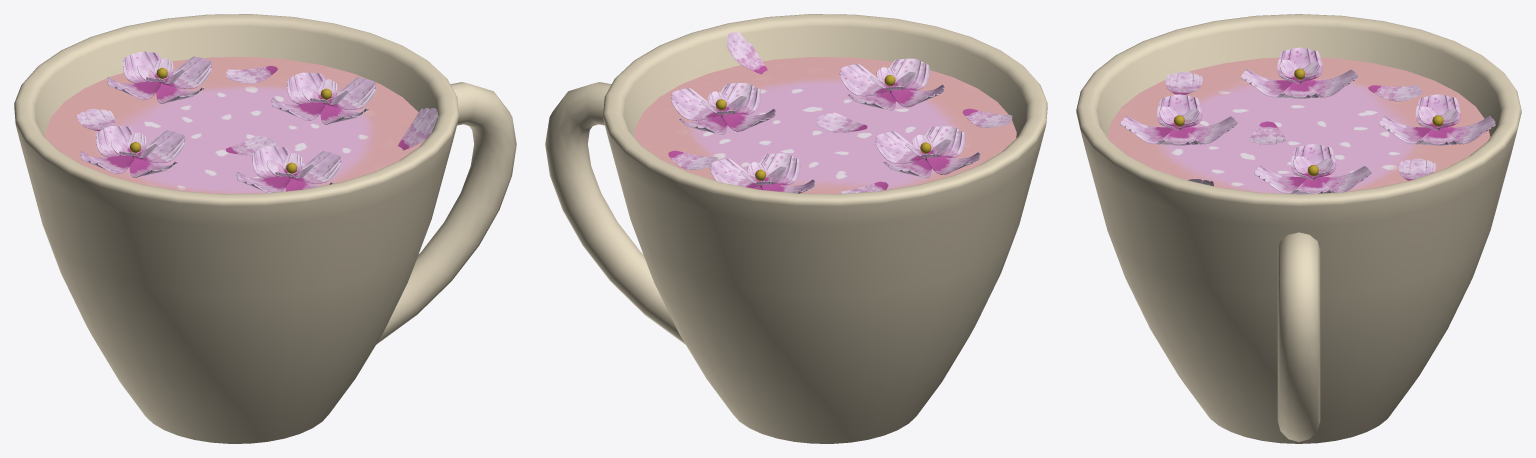
Rendered from cherry blossom  .fbx.
3 views of the same model, side by side, from view 1: azimuth 30°, elevation 25°; view 2: azimuth 150°, elevation 25°; view 3: azimuth 270°, elevation 25° (orthographic).
Parts seen in each view (by area): view 1: CoffeeCup, Liquid, Pedal.005, Pedal.002, Pedal.003, Pedal.004, Pedal.006, Pedal.008, Pedal.007, Pedal.001; view 2: CoffeeCup, Liquid, Pedal.004, Pedal.003, Pedal.005, Pedal.002, Pedal.006, Pedal.001, Pedal.009, Pedal.008; view 3: CoffeeCup, Liquid, Pedal.003, Pedal.004, Pedal.002, Pedal.005, Pedal.009, Pedal.007, Pedal.008, Pedal.001.
Part boxes in pixels (<box>): CoffeeCup: <box>14,14,516,443</box>; Liquid: <box>45,57,425,193</box>; Pedal.005: <box>271,72,376,124</box>; Pedal.002: <box>107,51,212,103</box>; Pedal.003: <box>80,125,185,177</box>; Pedal.004: <box>236,146,341,192</box>; Pedal.006: <box>398,108,438,150</box>; Pedal.008: <box>226,65,277,83</box>; Pedal.007: <box>77,109,115,130</box>; Pedal.001: <box>226,135,276,155</box>; CoffeeCup: <box>545,14,1047,443</box>; Liquid: <box>634,57,1016,193</box>; Pedal.004: <box>839,58,944,110</box>; Pedal.003: <box>875,126,980,177</box>; Pedal.005: <box>671,83,775,134</box>; Pedal.002: <box>710,153,815,193</box>; Pedal.006: <box>726,32,767,74</box>; Pedal.001: <box>817,112,867,132</box>; Pedal.009: <box>962,108,1012,127</box>; Pedal.008: <box>668,150,717,169</box>; CoffeeCup: <box>1076,14,1521,443</box>; Liquid: <box>1107,57,1490,194</box>; Pedal.003: <box>1240,47,1358,98</box>; Pedal.004: <box>1120,94,1237,145</box>; Pedal.002: <box>1379,94,1495,145</box>; Pedal.005: <box>1254,144,1371,194</box>; Pedal.009: <box>1165,71,1202,94</box>; Pedal.007: <box>1368,85,1422,101</box>; Pedal.008: <box>1399,158,1435,180</box>; Pedal.001: <box>1249,121,1285,144</box>.
Bounding box in the file's own units: 56.58 × 34.16 × 46.42.
